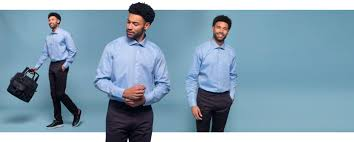F_dress pants: (46, 60, 80, 117)
F_shirt: (91, 26, 174, 103), (183, 34, 240, 99), (30, 28, 80, 66)
